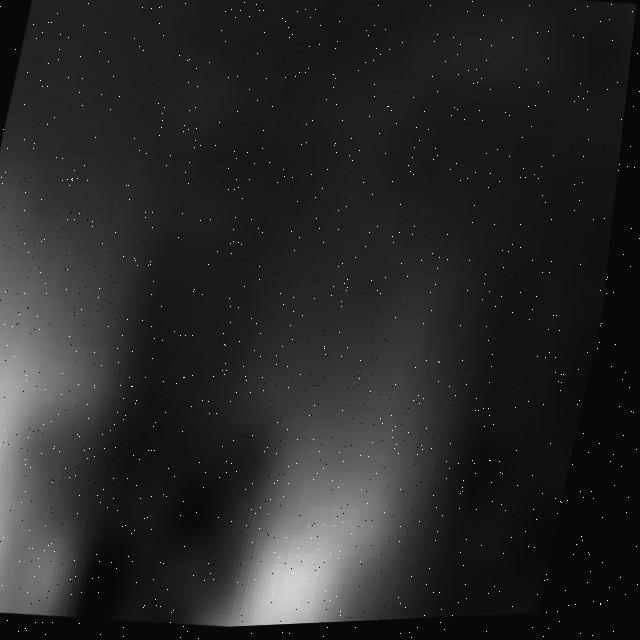person: (223, 254, 515, 631), (1, 181, 158, 622)
